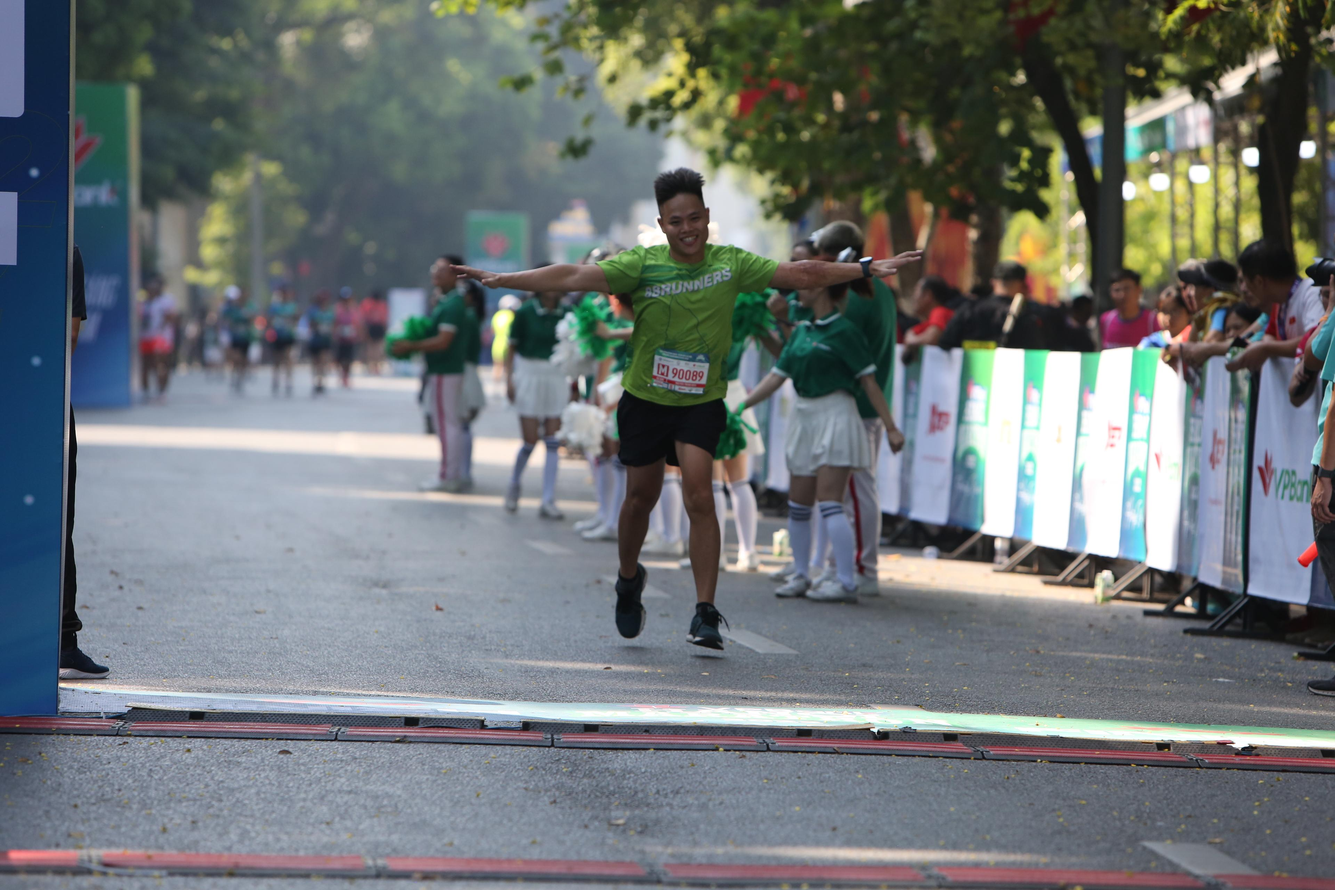bib: (652, 348, 709, 393)
